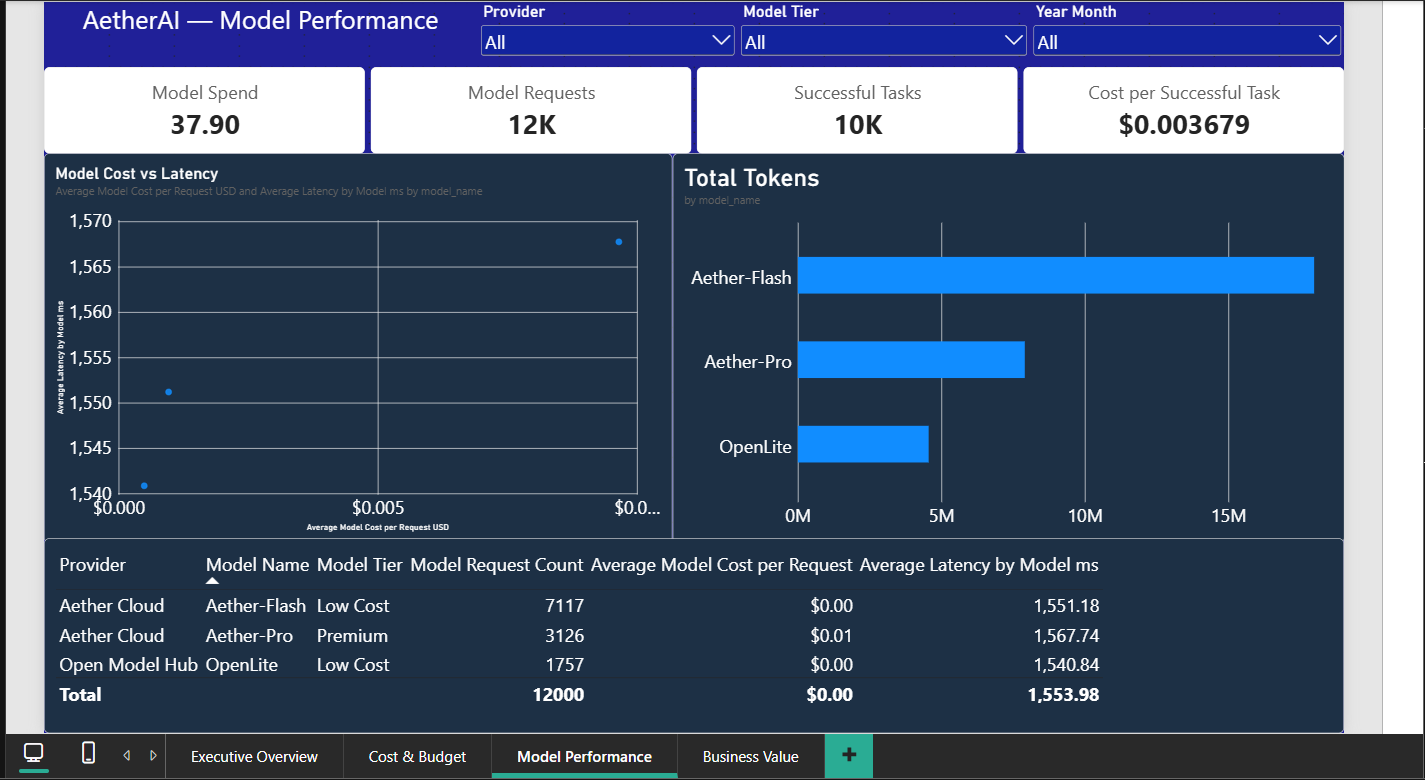

The dashboard page shown, as its layout file describes it:
{"tool":"powerbi","page":{"name":"Model Performance","canvas":[1920,1080],"ordinal":2},"visuals":[{"type":"cardVisual","fields":{"Data":["Measure.Model Spend USD","Measure.Model Request Count","Measure.Successful Tasks","Measure.Cost per Successful Task USD"]},"box":[0,96,1920,128],"z":0},{"type":"scatterChart","title":"Model Cost vs Latency","fields":{"Category":["ai_models.model_name"],"X":["Measure.Average Model Cost per Request USD"],"Y":["Measure.Average Latency by Model ms"]},"box":[0,224,928,576],"z":1000},{"type":"barChart","fields":{"Category":["ai_models.model_name"],"Y":["Measure.Total Tokens"]},"box":[928,224,992,576],"z":2000},{"type":"tableEx","fields":{"Values":["ai_models.provider","ai_models.model_name","ai_models.model_tier","Measure.Model Request Count","Measure.Average Model Cost per Request USD","Measure.Average Latency by Model ms"]},"box":[0,792,1920,288],"z":3000},{"type":"slicer","fields":{"Values":["ai_models.model_tier"]},"box":[1024,0,432,96],"z":4000},{"type":"slicer","fields":{"Values":["Date.Year Month"]},"box":[1456,0,464,96],"z":5000},{"type":"slicer","fields":{"Values":["ai_models.provider"]},"box":[640,0,384,96],"z":6000},{"type":"textbox","box":[0,0,640,96],"z":7000}]}

Visuals, with their boxes on the page's 1920x1080 design canvas (x1, y1, x2, y2). These are canvas units, not pixel positions in the 1425x780 screenshot, which may show the page scaled, cropped or inside an application window:
cardVisual - Measure.Model Spend USD x Measure.Model Request Count: rect(0, 96, 1920, 224)
"Model Cost vs Latency" scatterChart: rect(0, 224, 928, 800)
barChart - ai_models.model_name x Measure.Total Tokens: rect(928, 224, 1920, 800)
tableEx - ai_models.provider x ai_models.model_name: rect(0, 792, 1920, 1080)
slicer - ai_models.model_tier: rect(1024, 0, 1456, 96)
slicer - Date.Year Month: rect(1456, 0, 1920, 96)
slicer - ai_models.provider: rect(640, 0, 1024, 96)
textbox: rect(0, 0, 640, 96)
